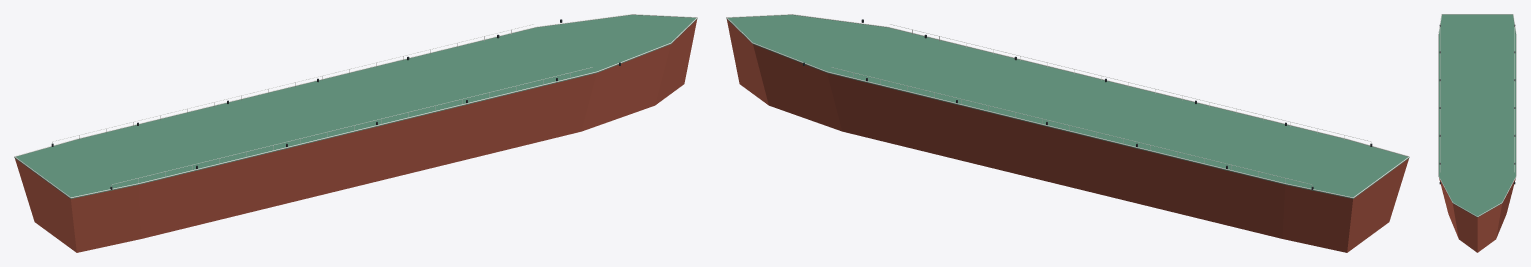
The model's file is tanker_ship_hull.glb.
3 renders of one model, left to right at view 1: azimuth 30°, elevation 25°; view 2: azimuth 150°, elevation 25°; view 3: azimuth 270°, elevation 25°, orthographic. The views are drawn at different scales.
Visible parts, largest first — view 1: VisibleGeometry; view 2: VisibleGeometry; view 3: VisibleGeometry.
Boxes of the visible parts, x1,y1,x2,y2 form: VisibleGeometry: (14,14,697,252); VisibleGeometry: (726,14,1409,252); VisibleGeometry: (1438,14,1516,252).
Size of the model in its own units: 146 by 14.44 by 23.7.
